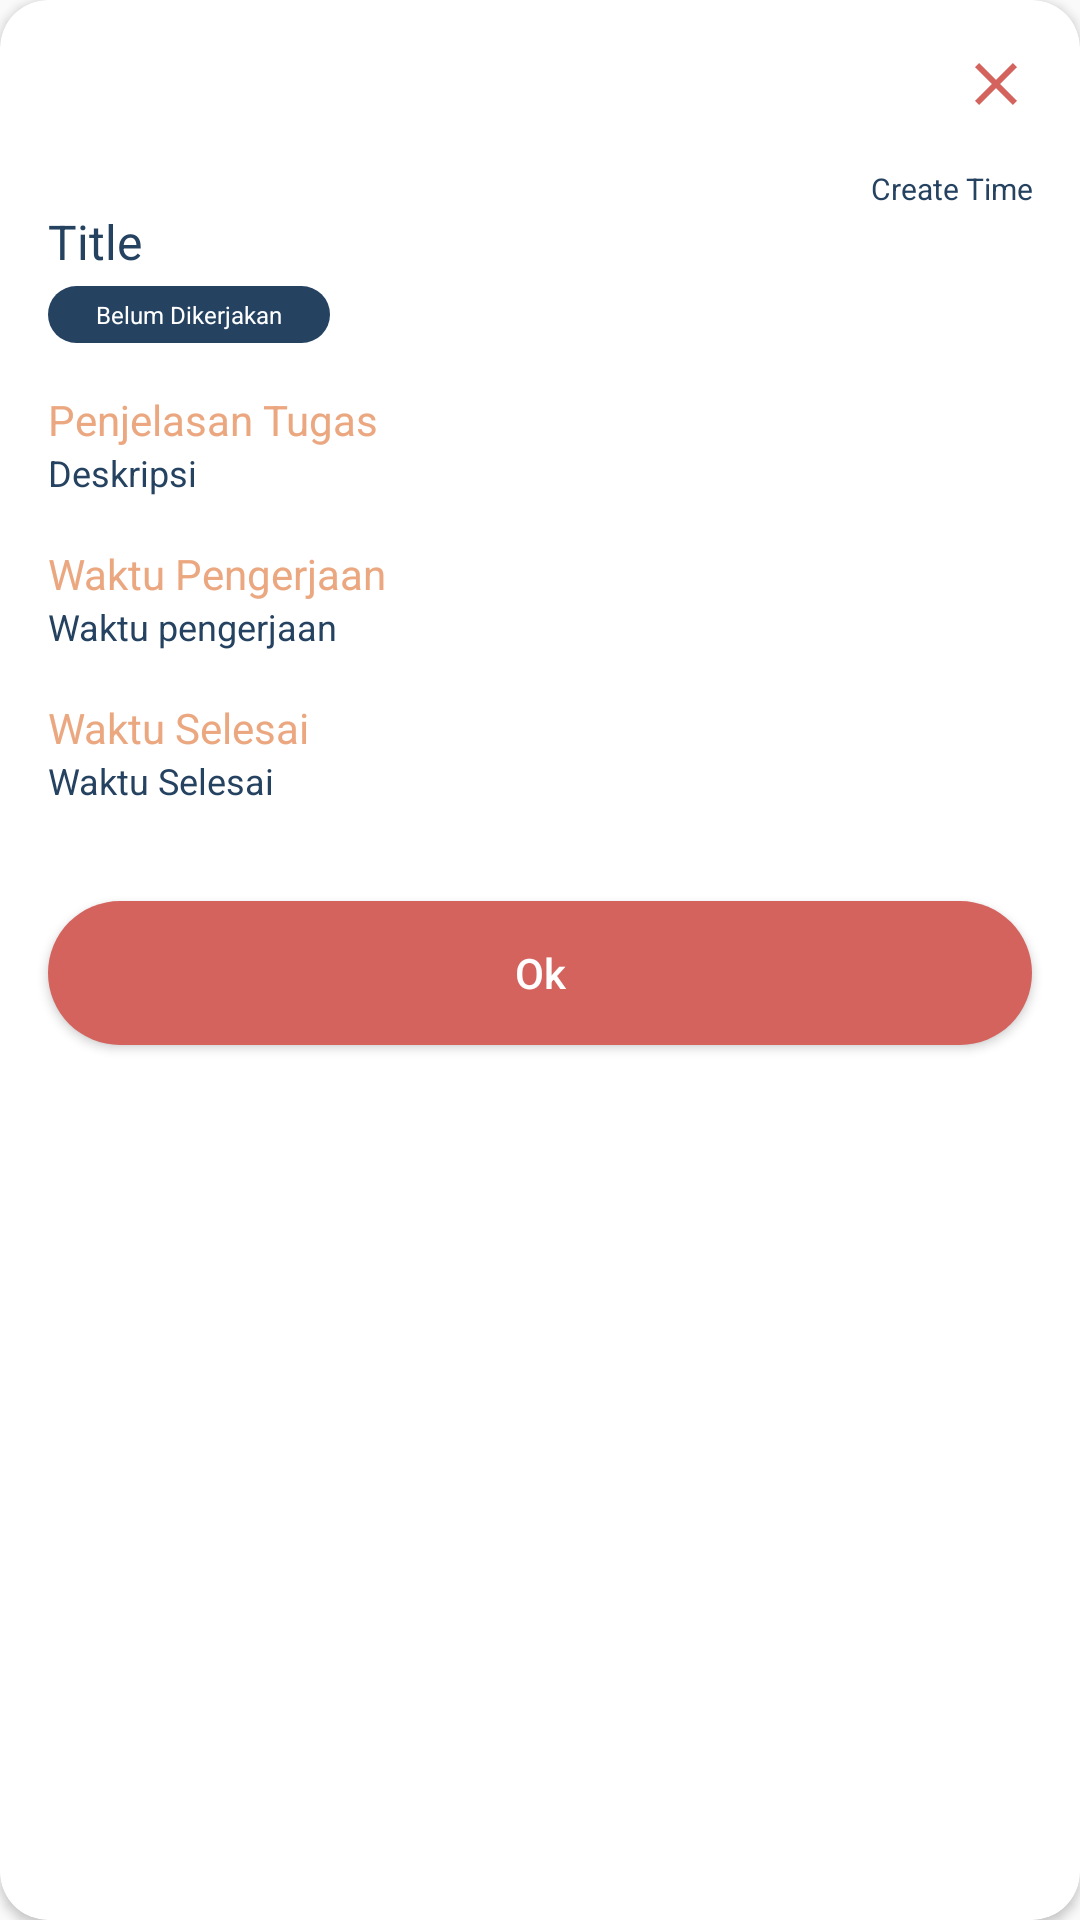

Point at icon controls on the screen. Image size 1080px×1920px, points as [x,y].
close: [996,84]
